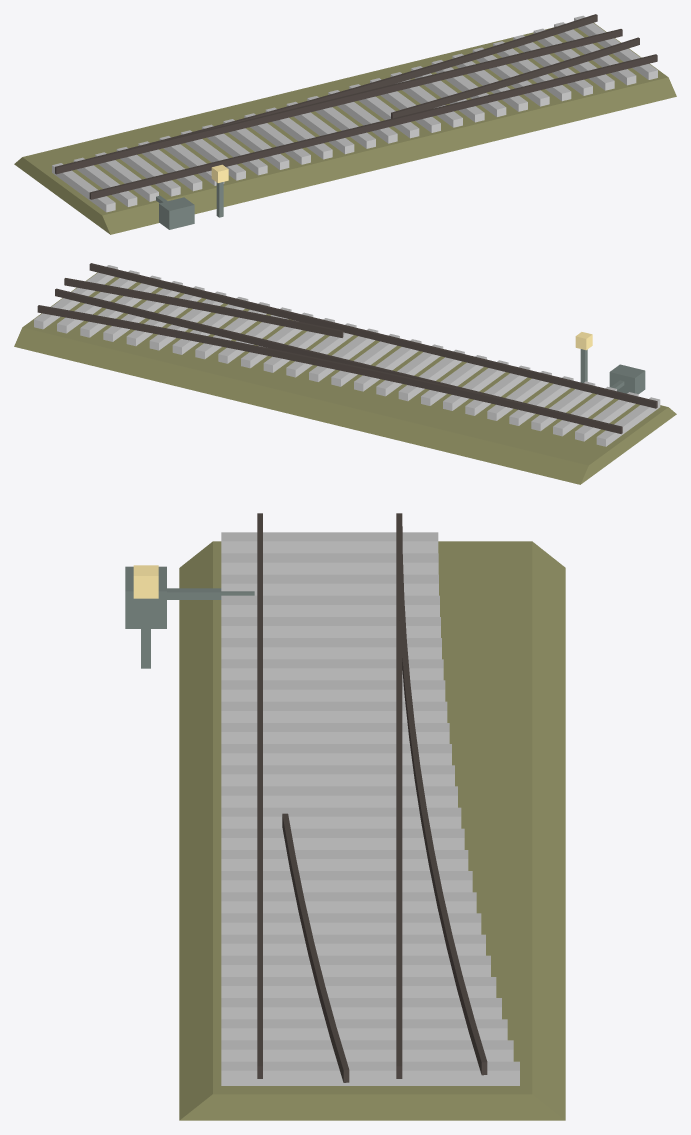
File: SM_Via_DesvioIzq_v0_Hormigon_LOD0.fbx
3 views of the same model, one above another, from view 1: azimuth 30°, elevation 25°; view 2: azimuth 150°, elevation 25°; view 3: azimuth 270°, elevation 25° (orthographic). The views are drawn at different scales.
Visible parts, largest first — view 1: SM_via_trazado_v25_LOD0; view 2: SM_via_trazado_v25_LOD0; view 3: SM_via_trazado_v25_LOD0.
Boxes of the visible parts, x1=… form: SM_via_trazado_v25_LOD0: x1=14, y1=14, x2=676, y2=234; SM_via_trazado_v25_LOD0: x1=14, y1=263, x2=676, y2=484; SM_via_trazado_v25_LOD0: x1=125, y1=513, x2=565, y2=1120.
Size of the model in its own units: 15.78 by 1.27 by 5.28.
